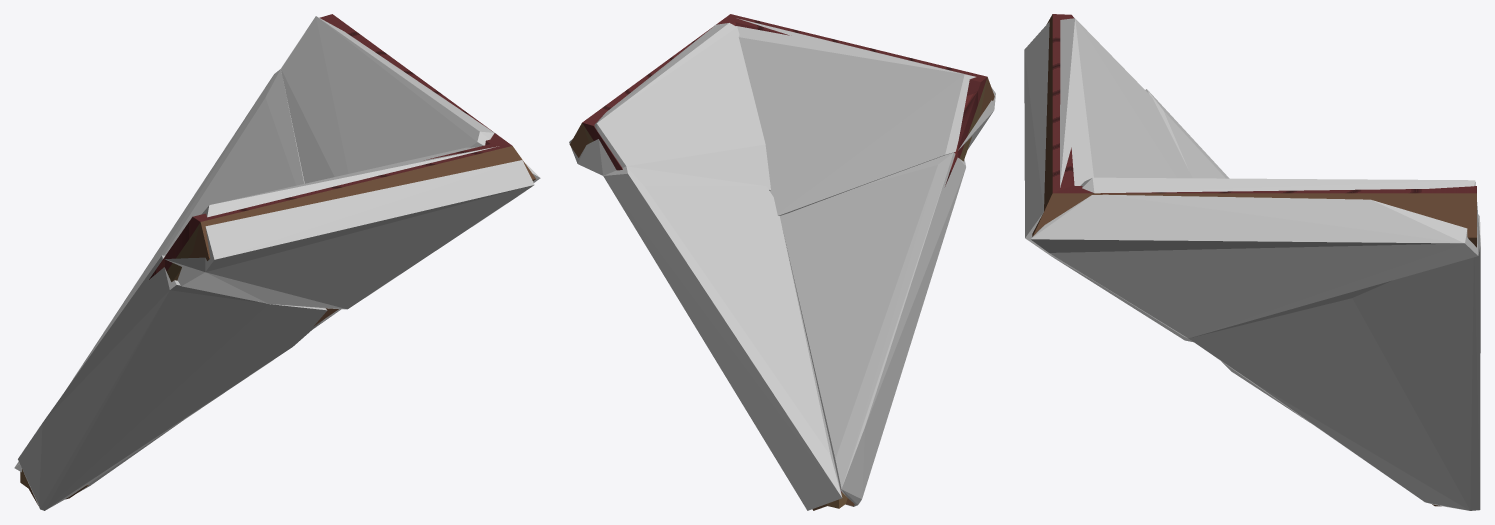
Rendered from SM_Bld_Roof_Straight_Corner_01.fbx.
The picture shows the model from 3 angles, left to right: view 1: azimuth 30°, elevation 25°; view 2: azimuth 150°, elevation 25°; view 3: azimuth 270°, elevation 25°; orthographic projection. The views are drawn at different scales.
Parts seen in each view (by area): view 1: SM_Bld_Roof_Straight_Corner_01_ConvexHulls, SM_Bld_Roof_Straight_Corner_01; view 2: SM_Bld_Roof_Straight_Corner_01_ConvexHulls, SM_Bld_Roof_Straight_Corner_01; view 3: SM_Bld_Roof_Straight_Corner_01_ConvexHulls, SM_Bld_Roof_Straight_Corner_01.
Part boxes in pixels (x1,y1,x2,y2): SM_Bld_Roof_Straight_Corner_01_ConvexHulls: (14,16,540,510); SM_Bld_Roof_Straight_Corner_01: (20,14,535,505); SM_Bld_Roof_Straight_Corner_01_ConvexHulls: (569,18,995,510); SM_Bld_Roof_Straight_Corner_01: (569,14,994,510); SM_Bld_Roof_Straight_Corner_01_ConvexHulls: (1024,18,1480,510); SM_Bld_Roof_Straight_Corner_01: (1032,14,1476,506).
Bounding box in the file's own units: 271 × 269 × 315.
4 materials, 3 textured.
